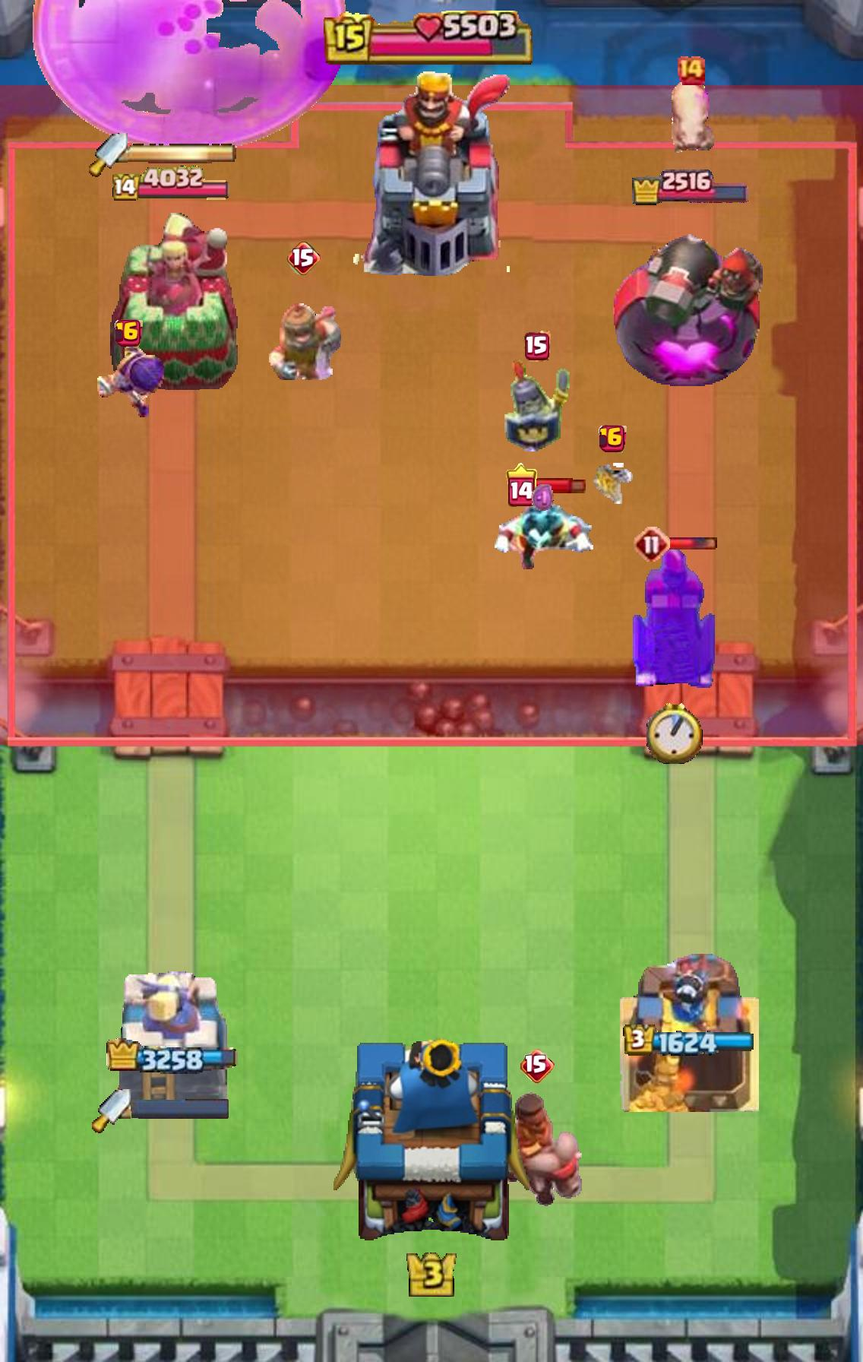bar: (533, 476, 586, 494), (666, 537, 718, 552)
bar-level: (506, 463, 537, 507), (634, 526, 670, 562), (287, 241, 321, 276), (521, 1049, 555, 1084), (675, 55, 706, 86), (523, 331, 551, 362), (115, 319, 143, 347), (598, 425, 626, 453)
